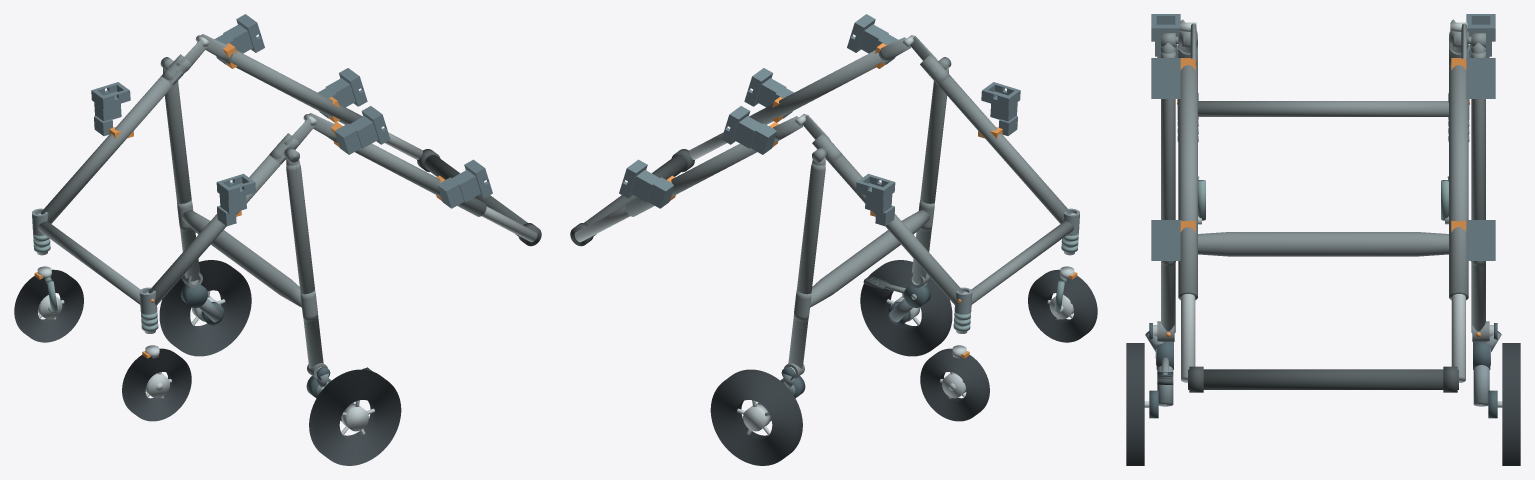
File: w550_state2_wheel_S.glb
3 views of the same model, side by side, from view 1: azimuth 30°, elevation 25°; view 2: azimuth 150°, elevation 25°; view 3: azimuth 270°, elevation 25° (orthographic). The views are drawn at different scales.
Parts seen in each view (by area): view 1: RL_tire.003, RR_tire.003, FL_tire.003, FR_tire.003, main_lower_1.004, V46_rear_leg_-1.004, V46_rearbar.004, main_lower_-1.004, V46_rear_leg_1.004, main_upper_1.004, main_upper_-1.004, front_fixed_round_tube.003 (+9 smaller); view 2: RR_tire.003, RL_tire.003, FR_tire.003, FL_tire.003, main_lower_-1.004, V46_rear_leg_1.004, V46_rearbar.004, main_lower_1.004, V46_rear_leg_-1.004, main_upper_-1.004, main_upper_1.004, front_fixed_round_tube.003 (+9 smaller); view 3: V46_rearbar.004, round_handle.003, main_upper_1.004, main_upper_-1.004, front_fixed_round_tube.003, V46_rear_leg_1.004, V46_rear_leg_-1.004, RL_tire.003, RR_tire.003, Universal_Cabin_Receiver_H_1, Universal_Cabin_Receiver_M_1, Universal_Cabin_Receiver_H_-1 (+7 smaller).
Boxes of the visible parts, left/top/right/bottom form: RL_tire.003: left=309, top=369, right=401, bottom=465; RR_tire.003: left=159, top=260, right=251, bottom=356; FL_tire.003: left=122, top=348, right=191, bottom=421; FR_tire.003: left=14, top=269, right=83, bottom=342; main_lower_1.004: left=40, top=71, right=182, bottom=223; V46_rear_leg_-1.004: left=286, top=162, right=323, bottom=368; V46_rearbar.004: left=182, top=210, right=301, bottom=307; main_lower_-1.004: left=148, top=155, right=284, bottom=305; V46_rear_leg_1.004: left=165, top=81, right=199, bottom=281; main_upper_1.004: left=225, top=50, right=362, bottom=124; main_upper_-1.004: left=333, top=139, right=486, bottom=216; front_fixed_round_tube.003: left=38, top=221, right=140, bottom=304; RR_tire.003: left=710, top=369, right=802, bottom=465; RL_tire.003: left=860, top=260, right=952, bottom=356; FR_tire.003: left=920, top=348, right=989, bottom=421; FL_tire.003: left=1028, top=269, right=1097, bottom=342; main_lower_-1.004: left=929, top=71, right=1071, bottom=223; V46_rear_leg_1.004: left=788, top=162, right=825, bottom=368; V46_rearbar.004: left=810, top=210, right=929, bottom=307; main_lower_1.004: left=827, top=155, right=963, bottom=305; V46_rear_leg_-1.004: left=912, top=81, right=946, bottom=281; main_upper_-1.004: left=749, top=50, right=886, bottom=124; main_upper_1.004: left=625, top=139, right=778, bottom=216; front_fixed_round_tube.003: left=971, top=221, right=1073, bottom=304; V46_rearbar.004: left=1198, top=232, right=1448, bottom=256; round_handle.003: left=1188, top=369, right=1458, bottom=389; main_upper_1.004: left=1449, top=65, right=1468, bottom=300; main_upper_-1.004: left=1178, top=65, right=1197, bottom=300; front_fixed_round_tube.003: left=1198, top=101, right=1448, bottom=116; V46_rear_leg_1.004: left=1471, top=51, right=1485, bottom=332; V46_rear_leg_-1.004: left=1161, top=51, right=1175, bottom=332; RL_tire.003: left=1126, top=343, right=1144, bottom=465; RR_tire.003: left=1502, top=343, right=1520, bottom=465; Universal_Cabin_Receiver_H_1: left=1466, top=220, right=1495, bottom=260; Universal_Cabin_Receiver_M_1: left=1466, top=58, right=1495, bottom=98; Universal_Cabin_Receiver_H_-1: left=1151, top=220, right=1180, bottom=260.
Size of the model in its own units: 0.9834 by 0.76 by 0.641.
